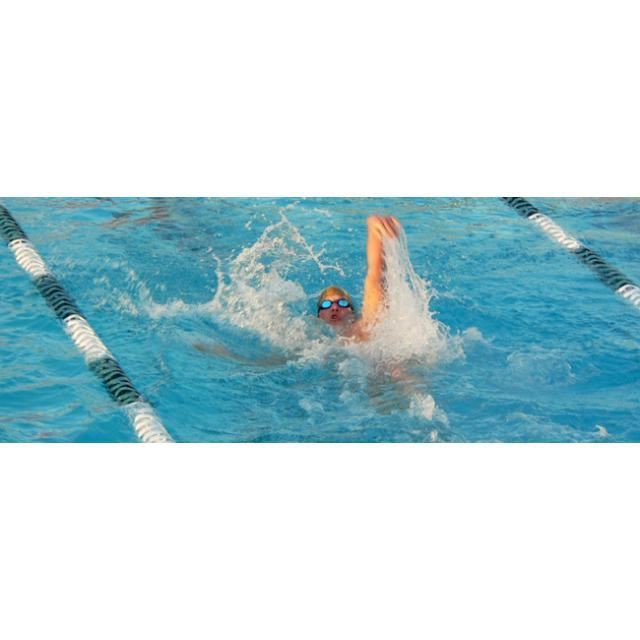human: (318, 212, 406, 408)
